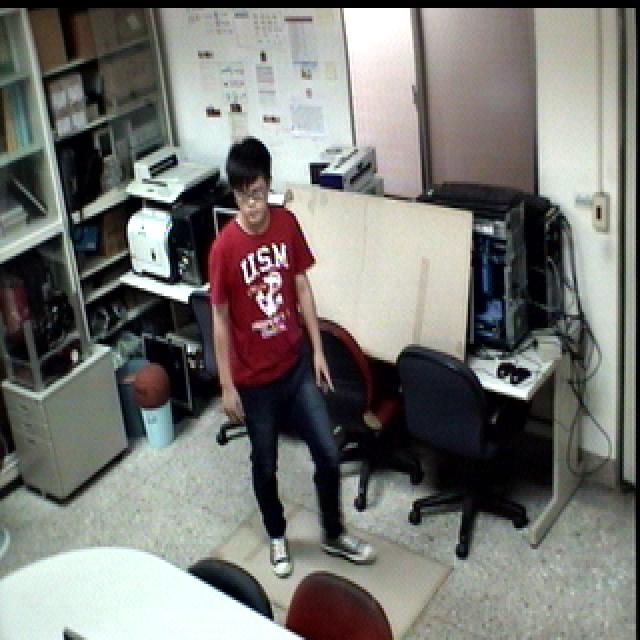stand: (200, 130, 385, 578)
